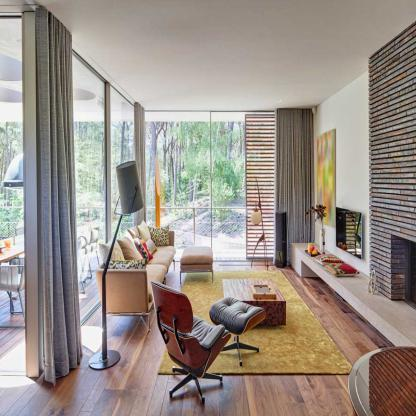TV: (327, 200, 373, 260)
chair: (145, 280, 232, 414), (211, 300, 273, 370), (0, 252, 28, 328), (178, 245, 217, 287)
light: (91, 155, 147, 377), (242, 176, 275, 269)
sofa: (97, 219, 176, 323)
table: (338, 340, 416, 416), (220, 270, 284, 328), (0, 244, 25, 264)
